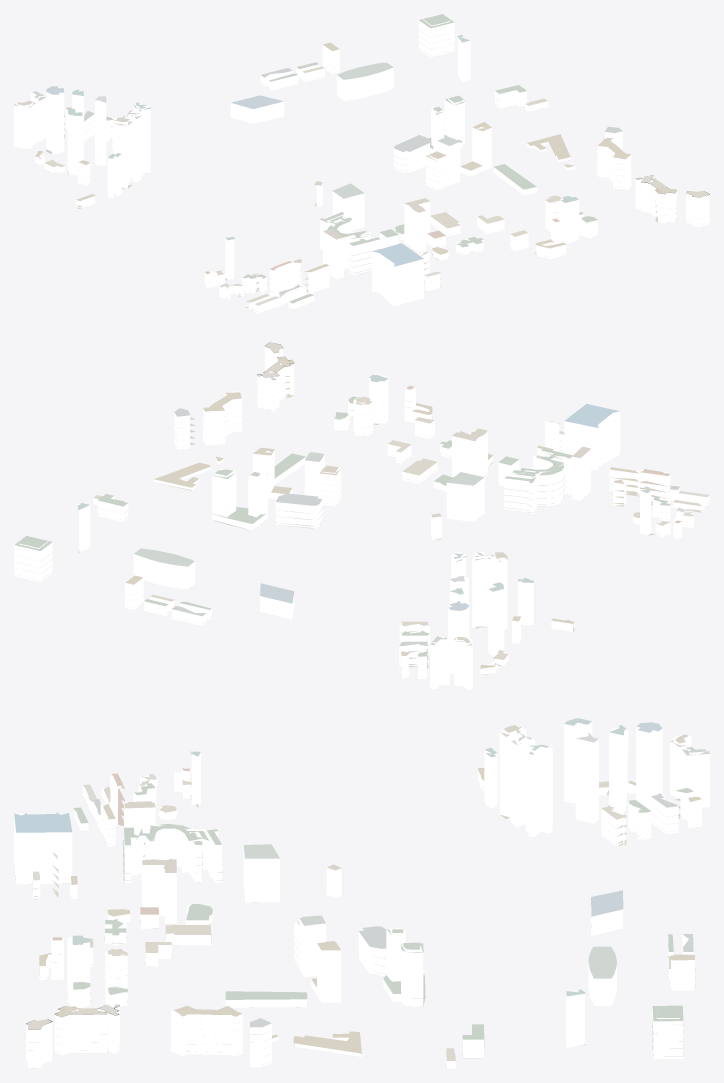
Rendered from buildings-1_1-coarse.glb.
The picture shows the model from 3 angles, top to bottom: view 1: azimuth 30°, elevation 25°; view 2: azimuth 150°, elevation 25°; view 3: azimuth 270°, elevation 25°; orthographic projection. The views are drawn at different scales.
Parts seen in each view (by area): view 1: block_1_1_office, block_1_1_residential, block_1_1_roof; view 2: block_1_1_residential, block_1_1_office, block_1_1_roof; view 3: block_1_1_office, block_1_1_residential, block_1_1_roof.
Boxes of the visible parts, x1,y1,x2,y2 form: block_1_1_office: [14, 37, 579, 306]; block_1_1_residential: [35, 19, 709, 313]; block_1_1_roof: [14, 14, 708, 312]; block_1_1_residential: [14, 346, 709, 678]; block_1_1_office: [79, 375, 651, 689]; block_1_1_roof: [15, 342, 709, 684]; block_1_1_office: [14, 721, 709, 1047]; block_1_1_residential: [26, 769, 701, 1068]; block_1_1_roof: [14, 718, 709, 1068].
Size of the model in its own units: 654 by 91.91 by 663.
